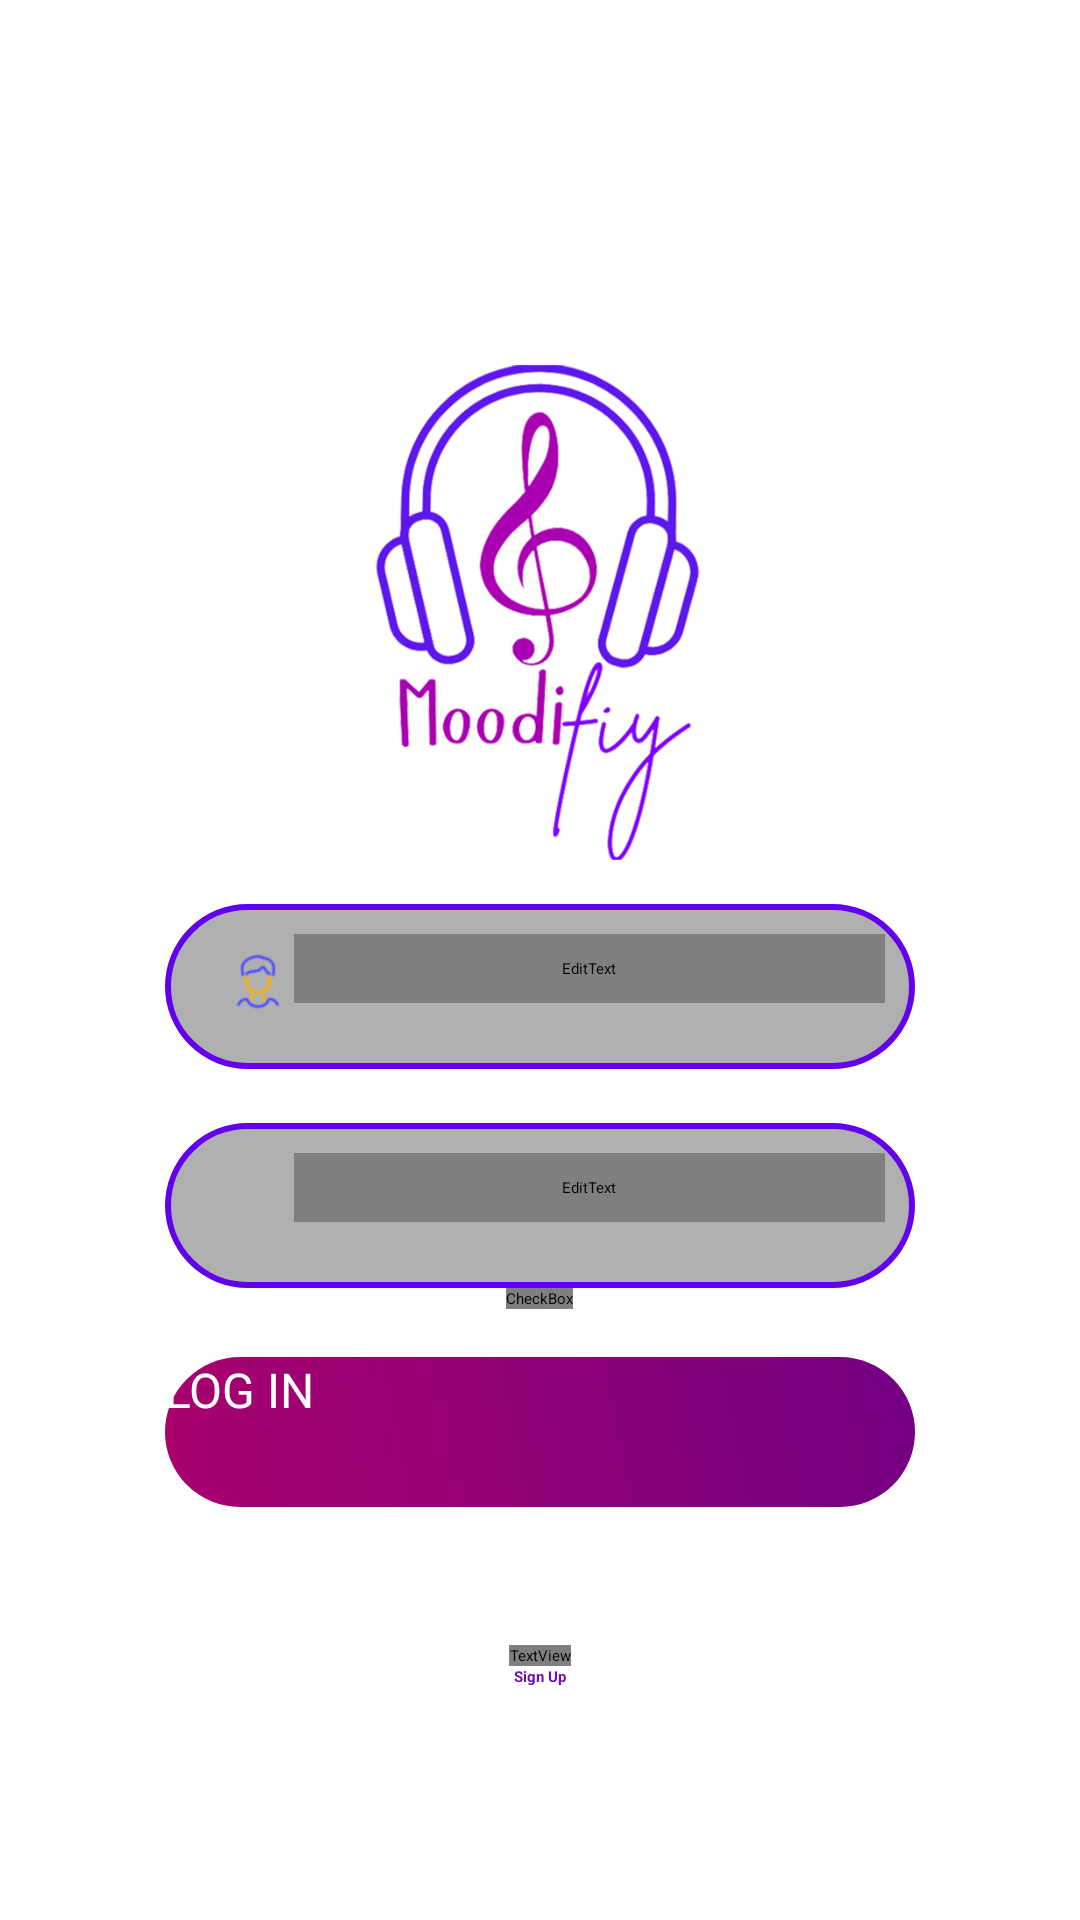

Icon click points for this 1080px×1920px phone screenshot, format point (x, y):
user: point (258, 982)
